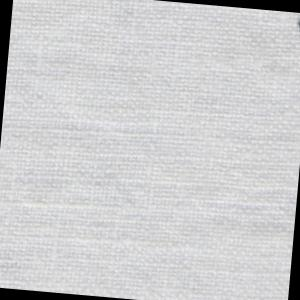Stain: (293, 13, 300, 41)
